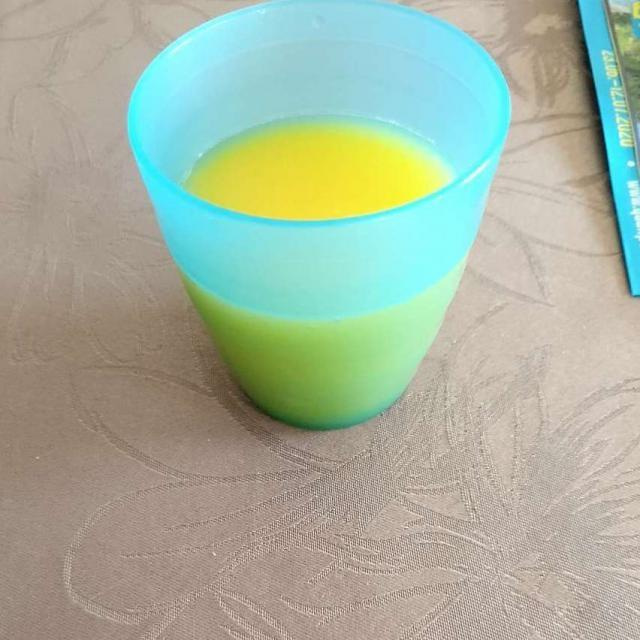juice: (187, 120, 448, 214)
